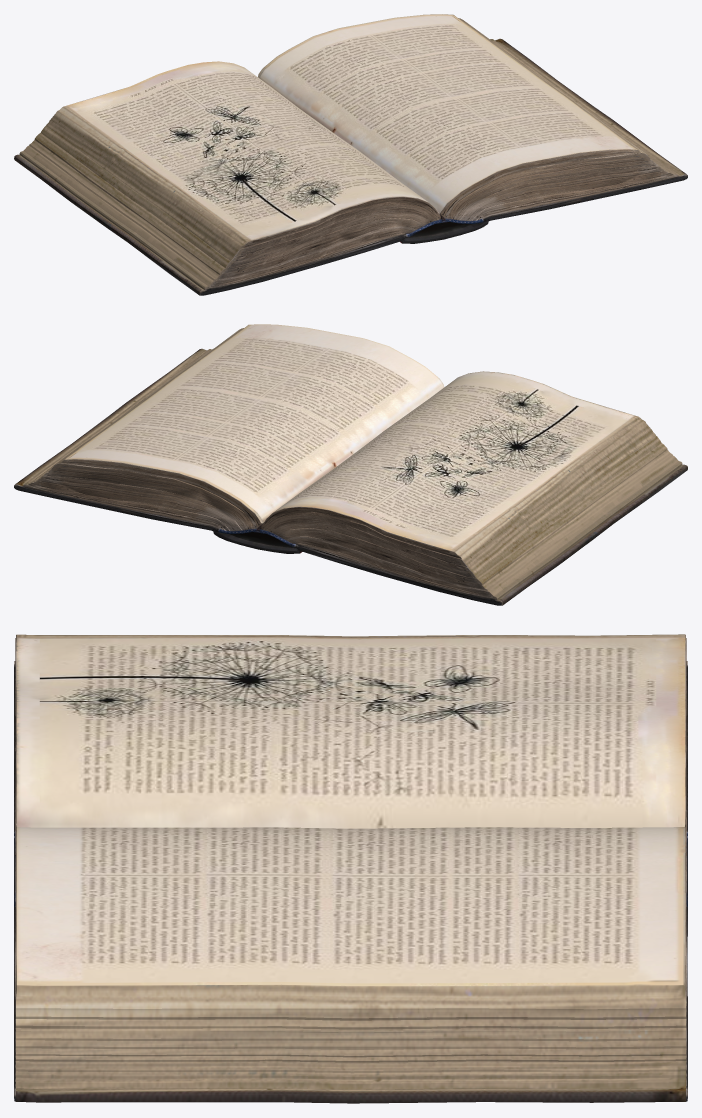
The model's file is Book 5.FBX.
3 views of the same model, one above another, from view 1: azimuth 30°, elevation 25°; view 2: azimuth 150°, elevation 25°; view 3: azimuth 270°, elevation 25° (orthographic). The views are drawn at different scales.
Visible parts, largest first — view 1: book 5; view 2: book 5; view 3: book 5.
Part boxes in pixels (x1=…): book 5: x1=14, y1=14, x2=687, y2=295; book 5: x1=14, y1=324, x2=687, y2=605; book 5: x1=14, y1=634, x2=687, y2=1103.
Bounding box in the file's own units: 32.59 × 3.64 × 21.45.
Materials: 1 (1 with a texture image).
